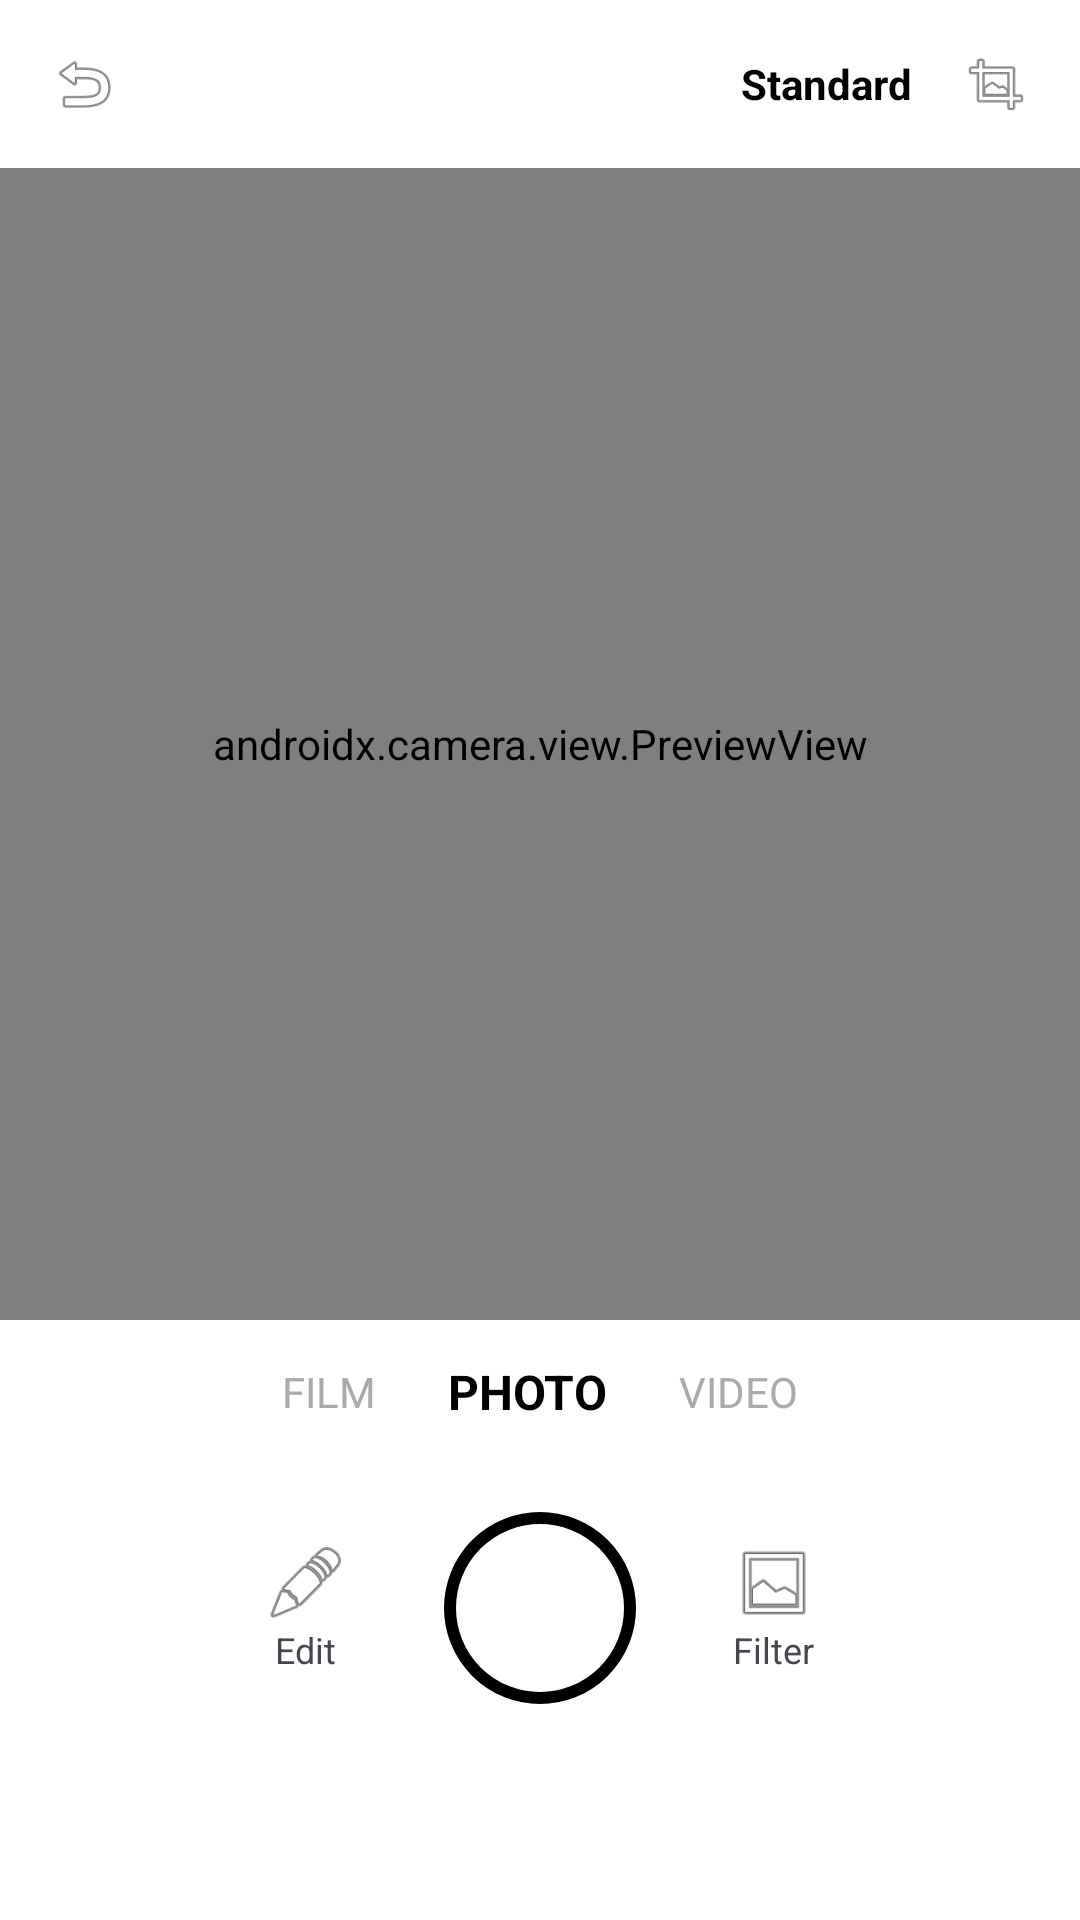

Icons on this 1080×1920 Android screen, each with its box as bbox=(x1, y1, x2, y2):
crop: bbox=(969, 58, 1023, 110)
gallery: bbox=(742, 1551, 806, 1615)
revert: bbox=(59, 61, 111, 108)
